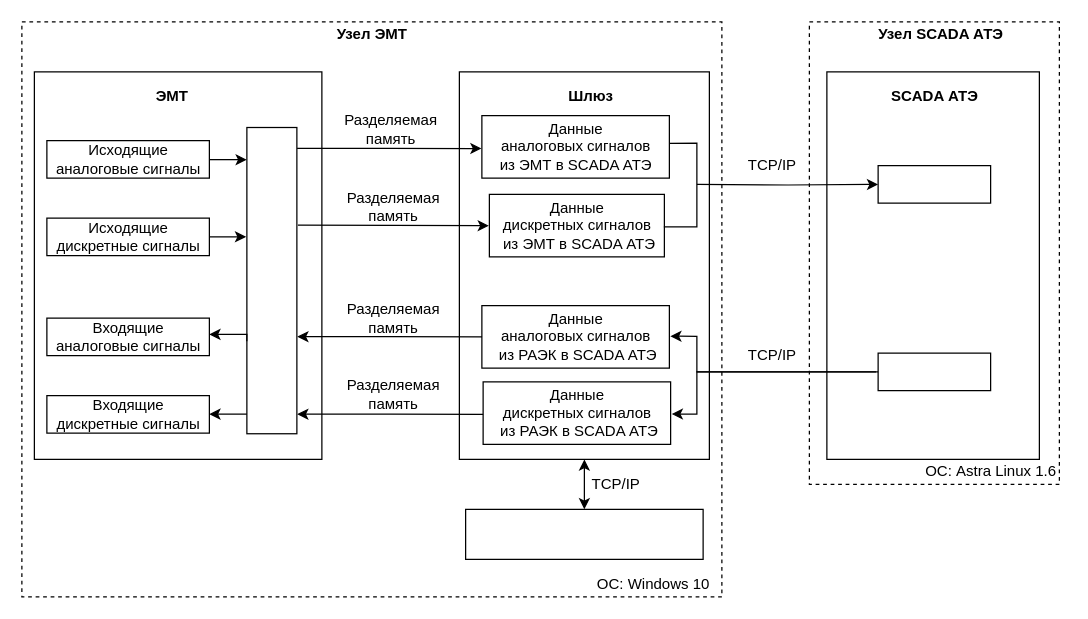
The diagram is 1088 pixels wide and 619 high, and some of its shapes have lost their labels. The shapes that lost their labels are listed below. From the top down, each one's centre as x and y in pixels, then its label:
At (x=934, y=183): "Блок данных для приема".
At (x=271, y=280): "Библиотека для работы со шлюзом".
At (x=934, y=371): "Блок данных для передачи".
At (x=583, y=533): "Менеджер шлюза".
